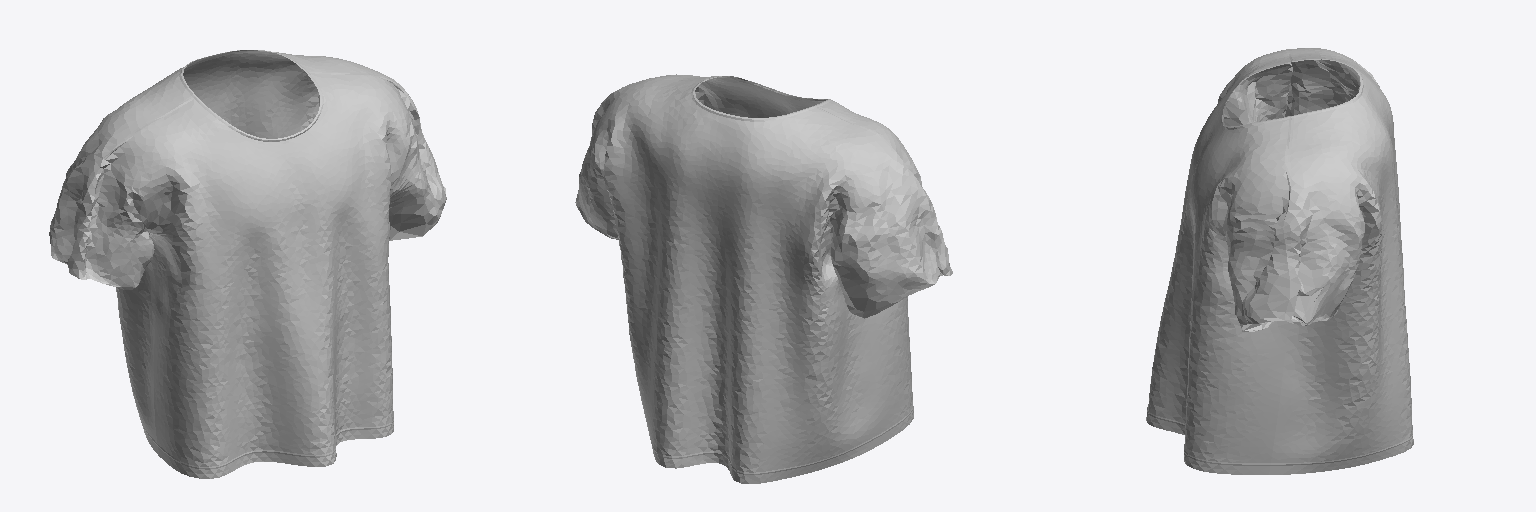
Rendered from XL_Short.obj.
3 views of the same model, side by side, from view 1: azimuth 30°, elevation 25°; view 2: azimuth 150°, elevation 25°; view 3: azimuth 270°, elevation 25° (orthographic).
Visible parts, largest first — view 1: 短袖.003; view 2: 短袖.003; view 3: 短袖.003.
Part boxes in pixels (bbox=[...]): 短袖.003: bbox=[49, 50, 446, 478]; 短袖.003: bbox=[575, 74, 952, 483]; 短袖.003: bbox=[1146, 48, 1413, 474].
Bounding box in the file's own units: 0.6979 × 0.6203 × 0.4362.